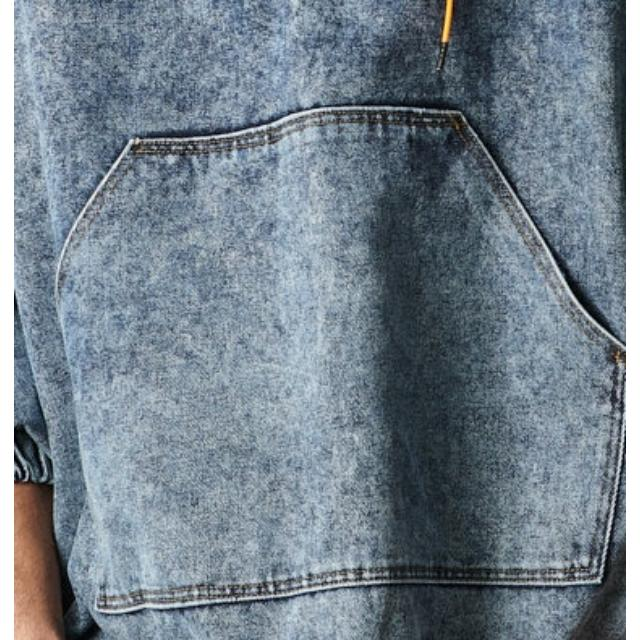denim: (14, 0, 626, 640)
